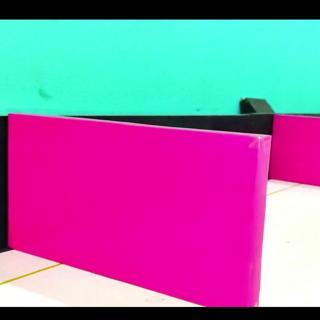xparking: (18, 143, 255, 302), (283, 121, 316, 184)
